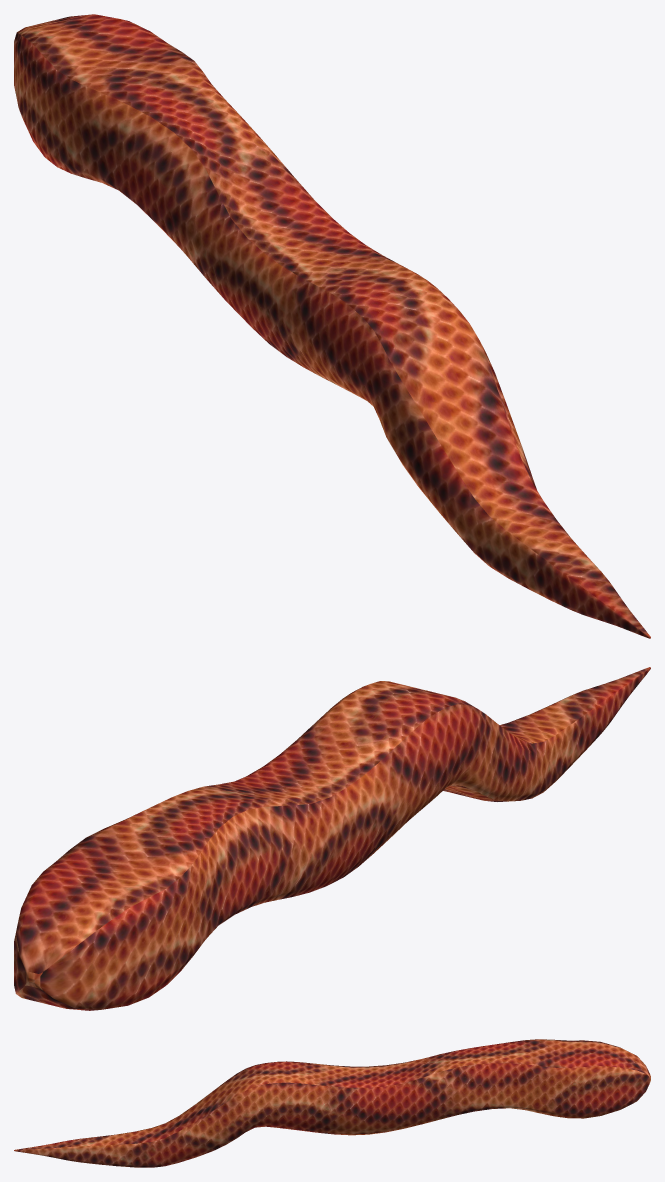
The model's file is snake.fbx.
3 renders of one model, top to bottom at view 1: azimuth 30°, elevation 25°; view 2: azimuth 150°, elevation 25°; view 3: azimuth 270°, elevation 25°, orthographic. The views are drawn at different scales.
Parts seen in each view (by area): view 1: pCube1; view 2: pCube1; view 3: pCube1.
Boxes of the visible parts, box(x1,y1,x2,y2) form: pCube1: box(14, 14, 650, 638); pCube1: box(14, 667, 650, 1010); pCube1: box(14, 1039, 650, 1167).
Bounding box in the file's own units: 1.13 × 1.94 × 9.96.
